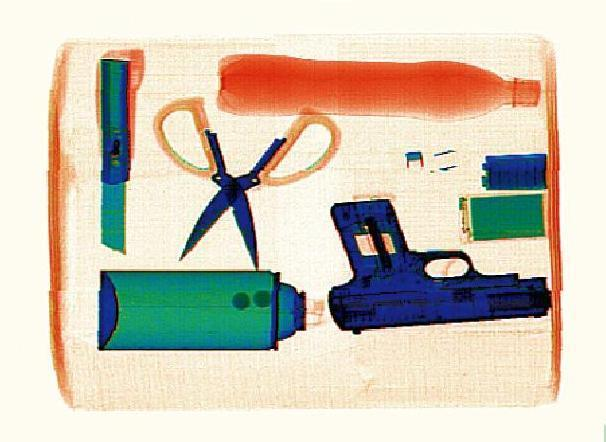Gun: (326, 197, 552, 334)
Scissors: (152, 94, 342, 273)
